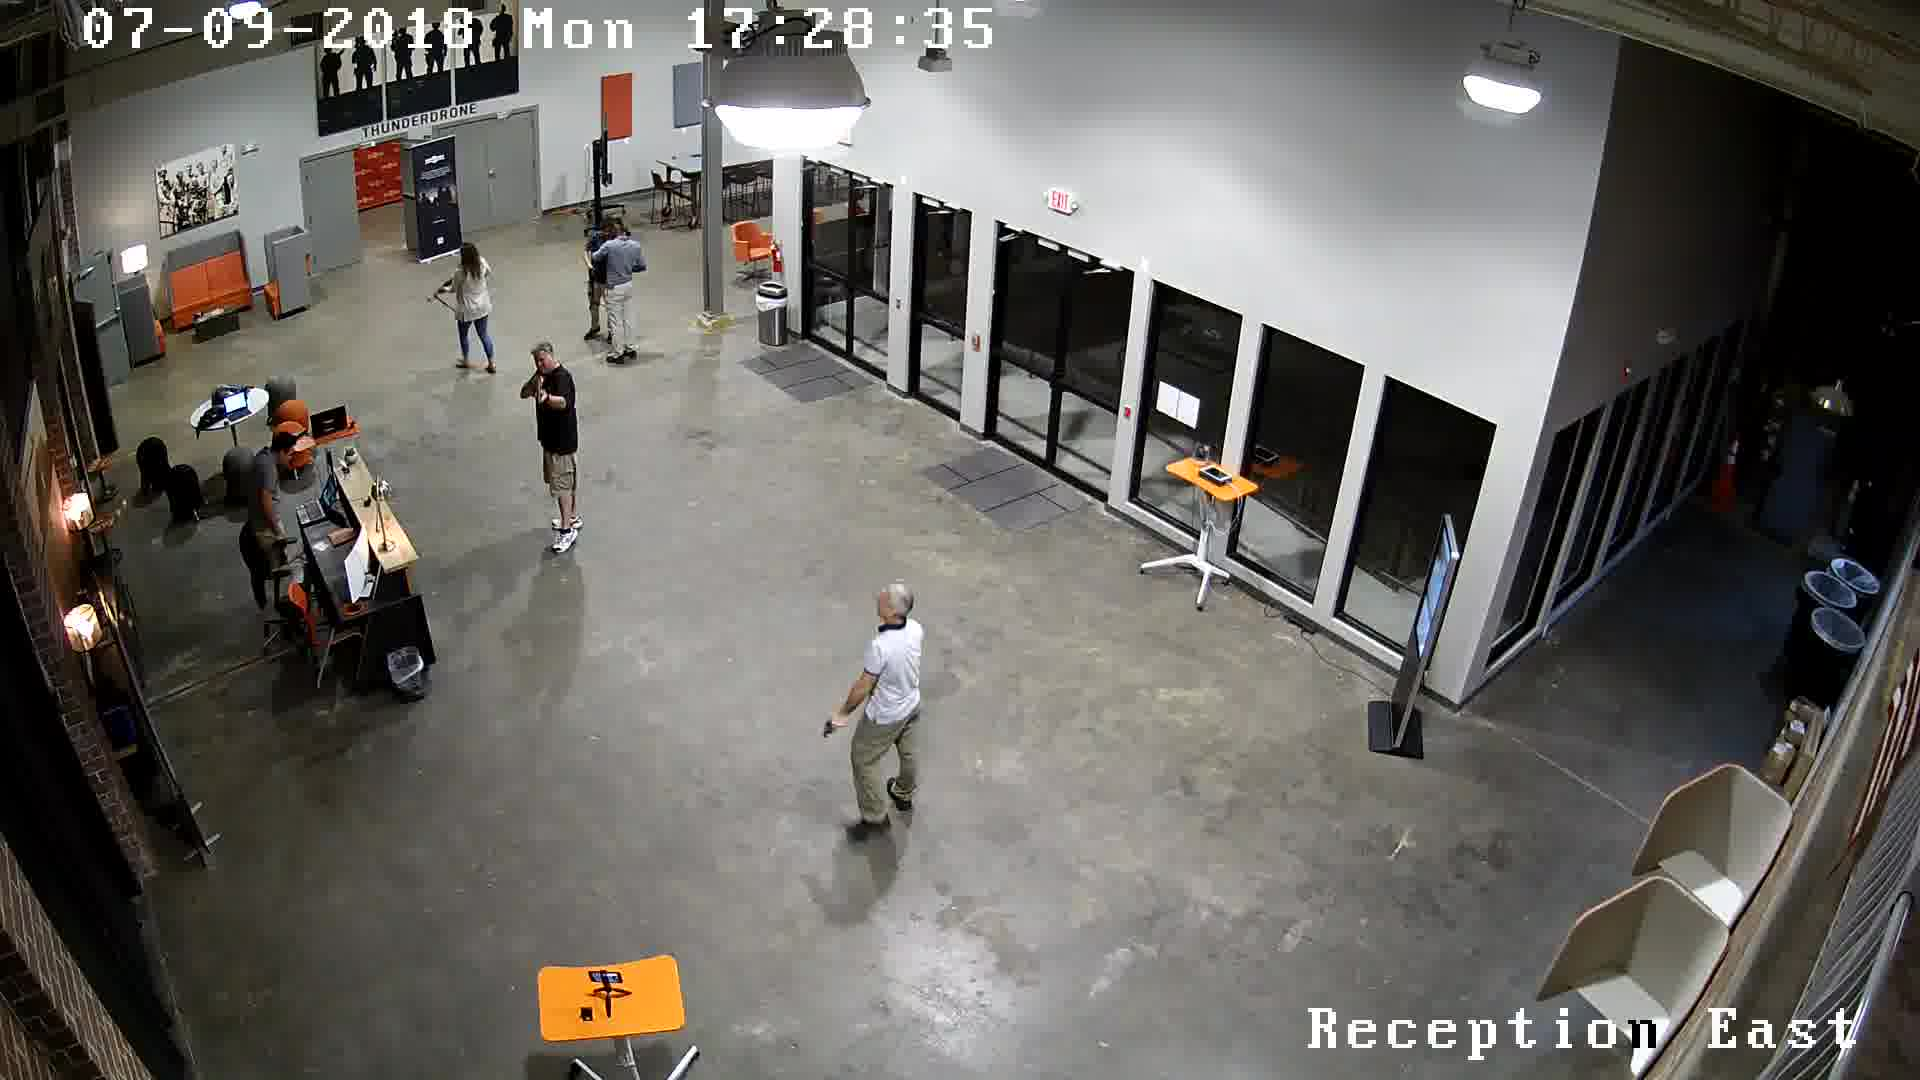pistol: (815, 705, 849, 753)
